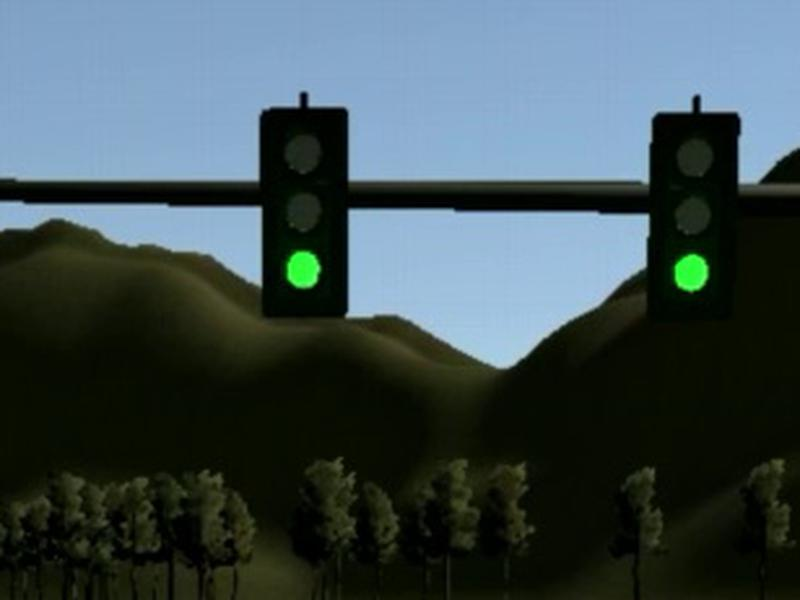Green: (645, 112, 743, 313), (259, 107, 351, 317)
